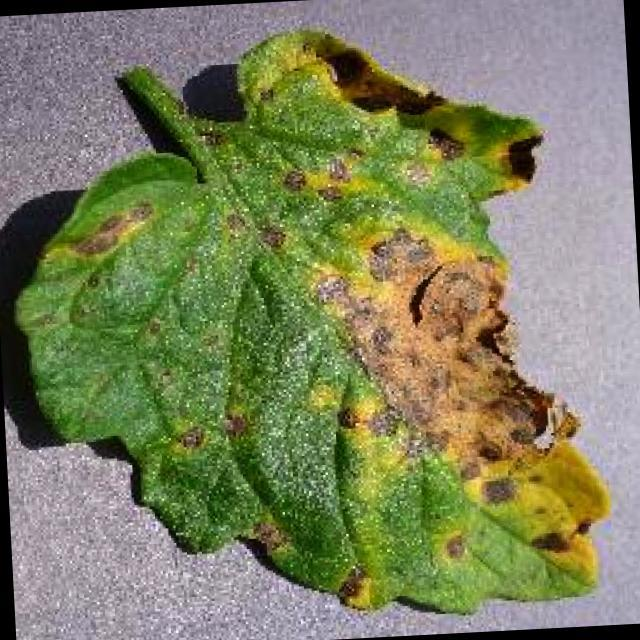Tomato Septoria spot leaf: (2, 18, 606, 634)
